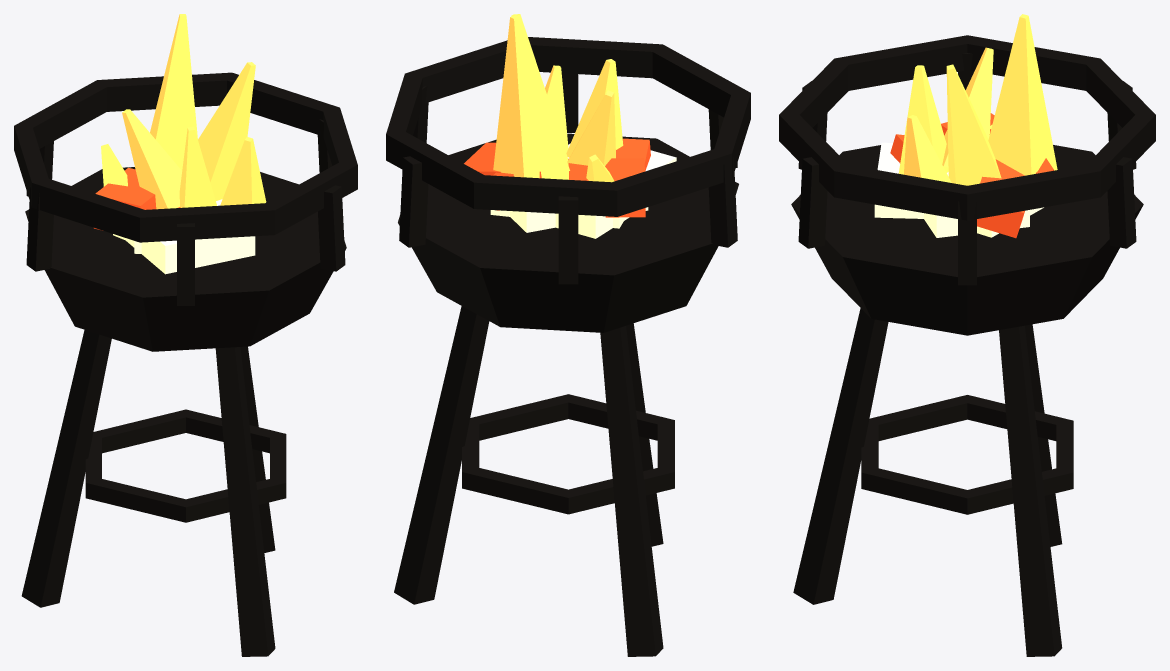
File: brazier.glb
The picture shows the model from 3 angles, left to right: view 1: azimuth 30°, elevation 25°; view 2: azimuth 150°, elevation 25°; view 3: azimuth 270°, elevation 25°; orthographic projection. The views are drawn at different scales.
Visible parts, largest first — view 1: brazier; view 2: brazier; view 3: brazier.
Part boxes in pixels (left/top/right/bottom): brazier: left=14, top=14, right=357, bottom=656; brazier: left=386, top=14, right=750, bottom=656; brazier: left=779, top=14, right=1155, bottom=656.
Size of the model in its own units: 0.6275 by 1.09 by 0.624.
